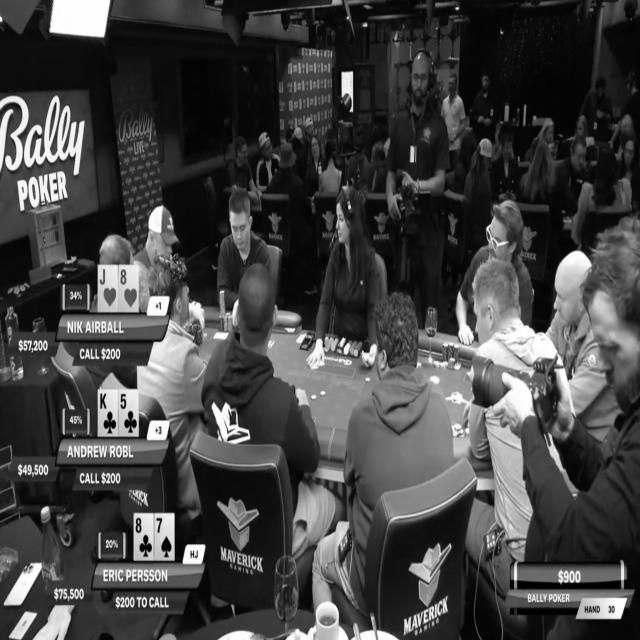5C: (118, 388, 139, 438)
7S: (153, 512, 174, 560)
8C: (134, 513, 154, 560)
8H: (118, 265, 139, 312)
JH: (98, 265, 118, 312)
KC: (98, 388, 118, 437)
